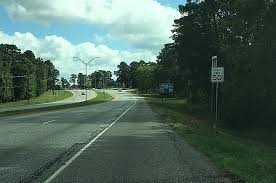speedLimit50: (211, 66, 225, 83)
